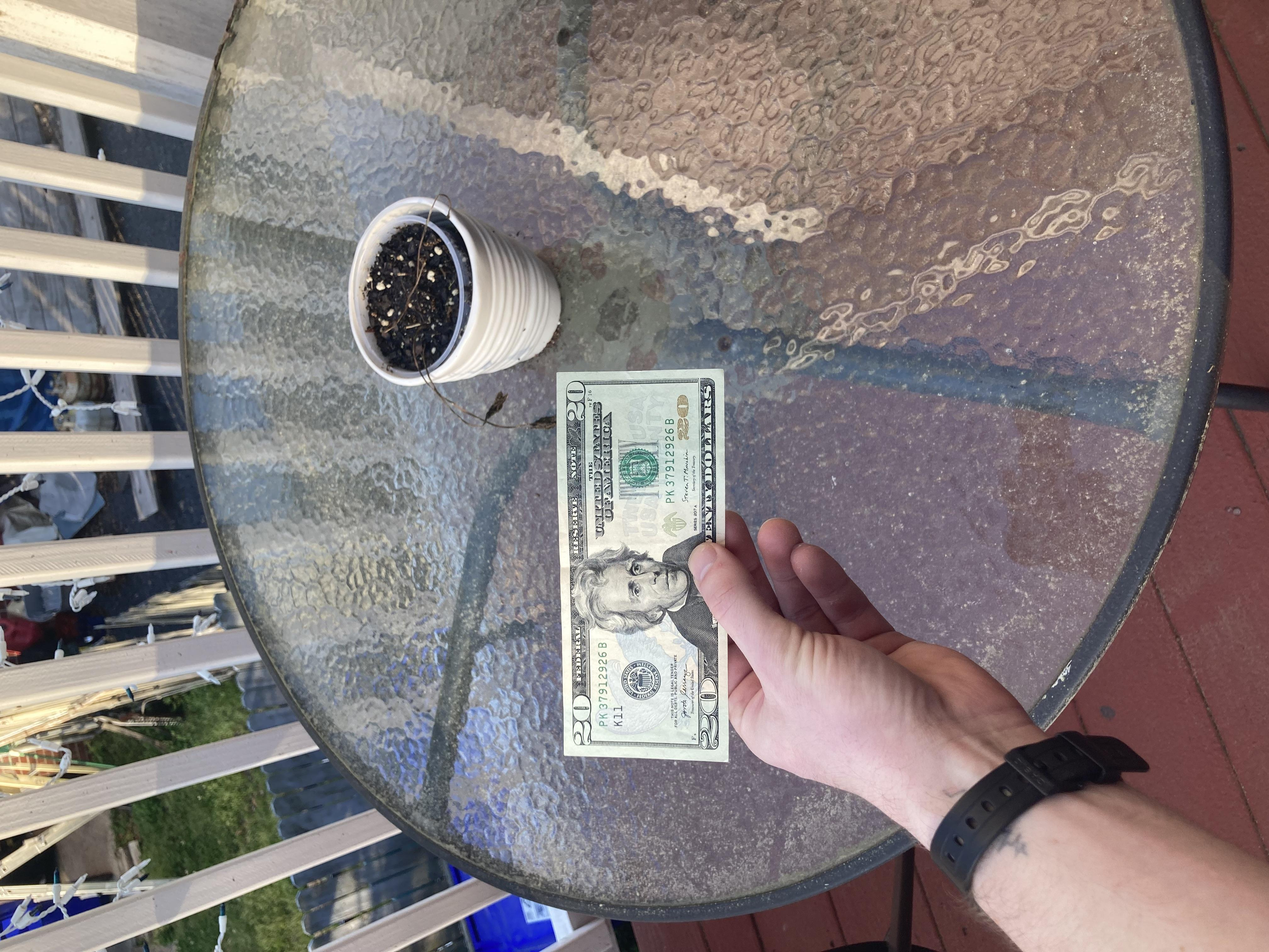twenty-front: (252, 416, 780, 547)
